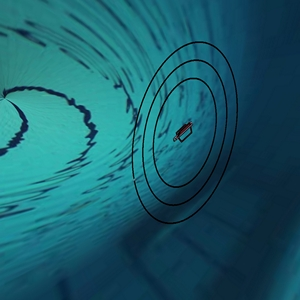circle: (121, 34, 246, 236)
submarine: (169, 116, 201, 151)
